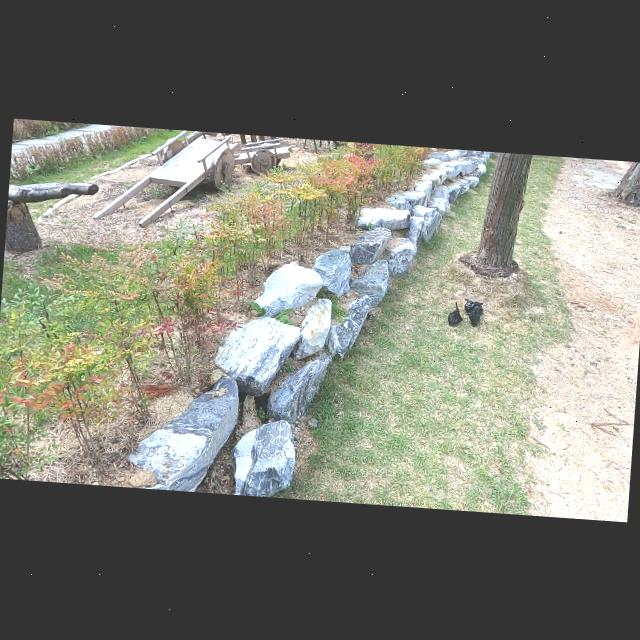trash: (462, 294, 487, 317), (446, 299, 464, 328), (465, 306, 482, 328)
